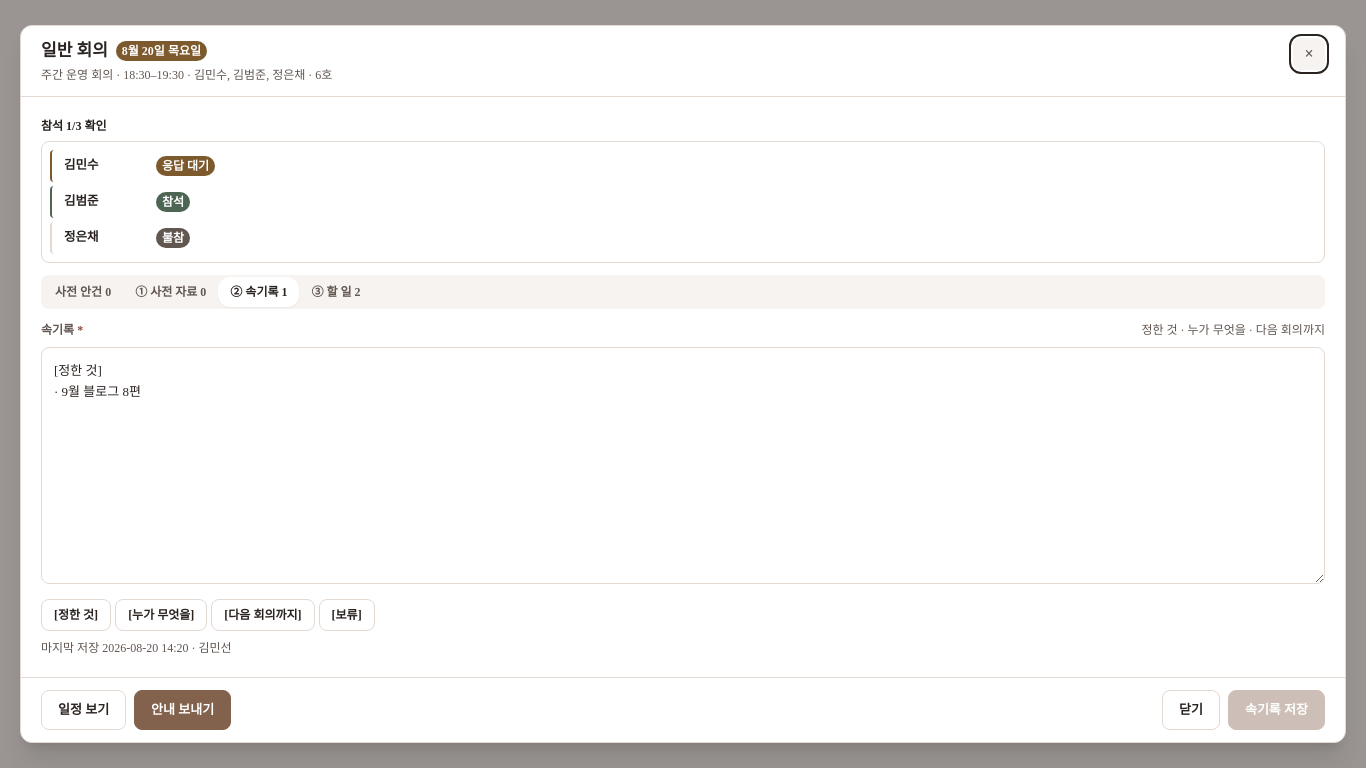
Test: 사전 자료가 없으면 빈 상태를 보인다
Step 1. Click the button "① 사전 자료 0" → (171, 292), box top-left (123, 277), bottom-right (218, 307)
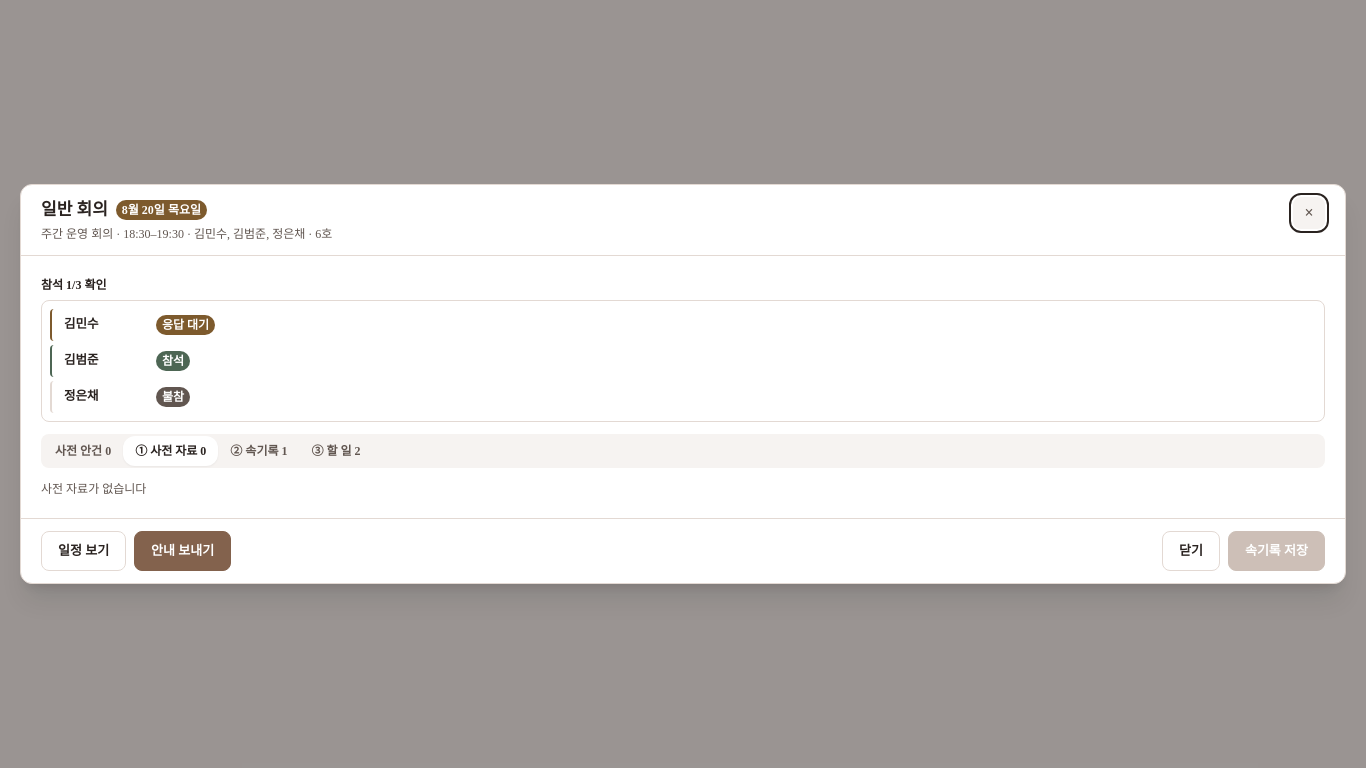
Check: the text "사전 자료가 없습니다" is shown, box top-left (41, 482), bottom-right (146, 496)
